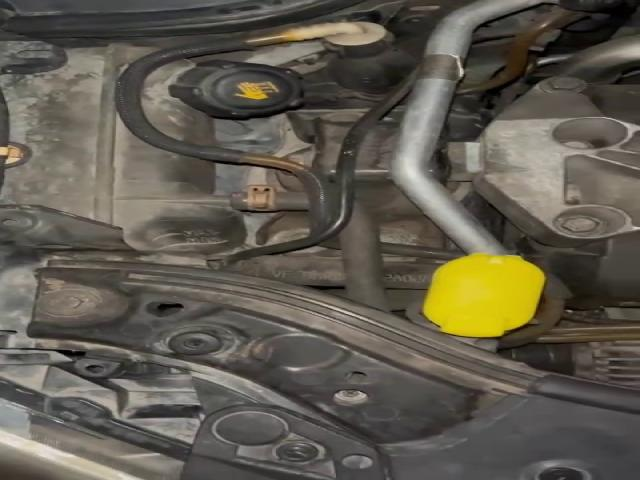antifreeze_tank: (2, 44, 247, 253), (141, 60, 300, 145)
